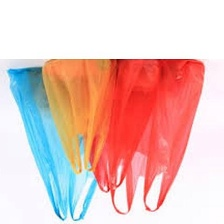plastic_bag: (105, 53, 210, 219), (2, 63, 100, 223), (82, 57, 158, 195), (37, 58, 115, 176)
